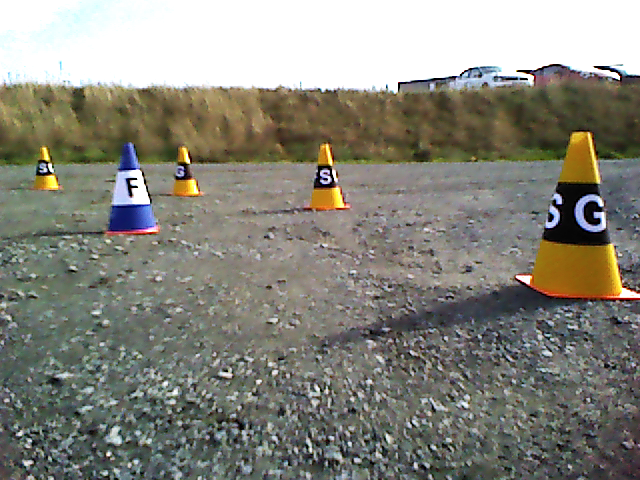bluecone: (109, 144, 153, 231)
yellowcone: (529, 130, 627, 296), (309, 144, 347, 207), (172, 147, 201, 194), (34, 147, 59, 189)
